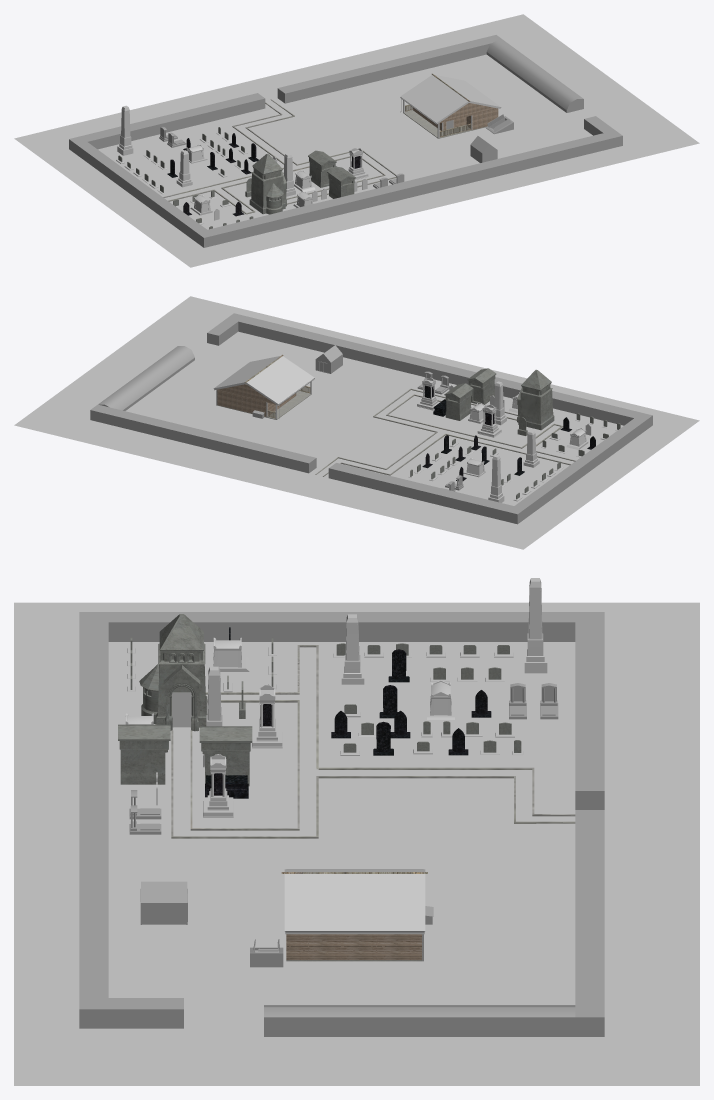
File: Graveyard03.fbx
3 renders of one model, top to bottom at view 1: azimuth 30°, elevation 25°; view 2: azimuth 150°, elevation 25°; view 3: azimuth 270°, elevation 25°, orthographic. The views are drawn at different scales.
Parts seen in each view (by area): view 1: Ground, pCube30, pCube2, pCube1, Graveyard_House_Roof, Berm, pPlane1, Graveyard_House_Body, Mausoleum:Mausoleum_MainStructure, pCube158, Curb01, Gravestones_Gravestone06_Head (+1 smaller); view 2: Ground, pCube30, pCube2, pCube1, Graveyard_House_Roof, Berm, pPlane1, Graveyard_House_Body, Mausoleum:Mausoleum_MainStructure, Curb01, Gravestones:pCube17, Curb02 (+4 smaller); view 3: Ground, pCube30, Berm, Graveyard_House_Roof, pPlane1, pCube2, pCube1, Graveyard_House_Body, Gravestones_Gravestone06_Head (×3), pCube158, Mausoleum:Mausoleum_MainStructure, Curb01 (+8 smaller).
Boxes of the visible parts, bbox=[...] form: Ground: bbox=[14, 14, 699, 267]; pCube30: bbox=[69, 116, 622, 247]; pCube2: bbox=[277, 35, 503, 103]; pCube1: bbox=[80, 93, 265, 149]; Graveyard_House_Roof: bbox=[400, 74, 500, 124]; Berm: bbox=[486, 40, 583, 112]; pPlane1: bbox=[164, 100, 395, 212]; Graveyard_House_Body: bbox=[403, 107, 498, 138]; Mausoleum:Mausoleum_MainStructure: bbox=[249, 167, 285, 214]; pCube158: bbox=[470, 136, 496, 162]; Curb01: bbox=[245, 99, 396, 204]; Gravestones_Gravestone06_Head: bbox=[119, 105, 132, 149]; Ground: bbox=[14, 296, 699, 549]; pCube30: bbox=[207, 313, 652, 524]; pCube2: bbox=[90, 404, 316, 473]; pCube1: bbox=[328, 463, 513, 521]; Graveyard_House_Roof: bbox=[214, 356, 314, 405]; Berm: bbox=[98, 346, 194, 410]; pPlane1: bbox=[316, 390, 574, 476]; Graveyard_House_Body: bbox=[217, 389, 311, 419]; Mausoleum:Mausoleum_MainStructure: bbox=[518, 383, 554, 430]; Curb01: bbox=[315, 388, 517, 474]; Gravestones:pCube17: bbox=[445, 394, 471, 420]; Curb02: bbox=[323, 433, 570, 476]; Ground: bbox=[14, 602, 699, 1085]; pCube30: bbox=[79, 612, 604, 1028]; Berm: bbox=[264, 1005, 575, 1036]; Graveyard_House_Roof: bbox=[284, 869, 425, 934]; pPlane1: bbox=[173, 647, 575, 836]; pCube2: bbox=[575, 810, 604, 1036]; pCube1: bbox=[575, 622, 604, 809]; Graveyard_House_Body: bbox=[286, 934, 422, 961]; Gravestones_Gravestone06_Head (×3): bbox=[206, 578, 544, 726]; pCube158: bbox=[141, 881, 187, 924]; Mausoleum:Mausoleum_MainStructure: bbox=[156, 643, 207, 727]; Curb01: bbox=[171, 730, 575, 838].
Size of the model in its own units: 100 by 14.06 by 60.
